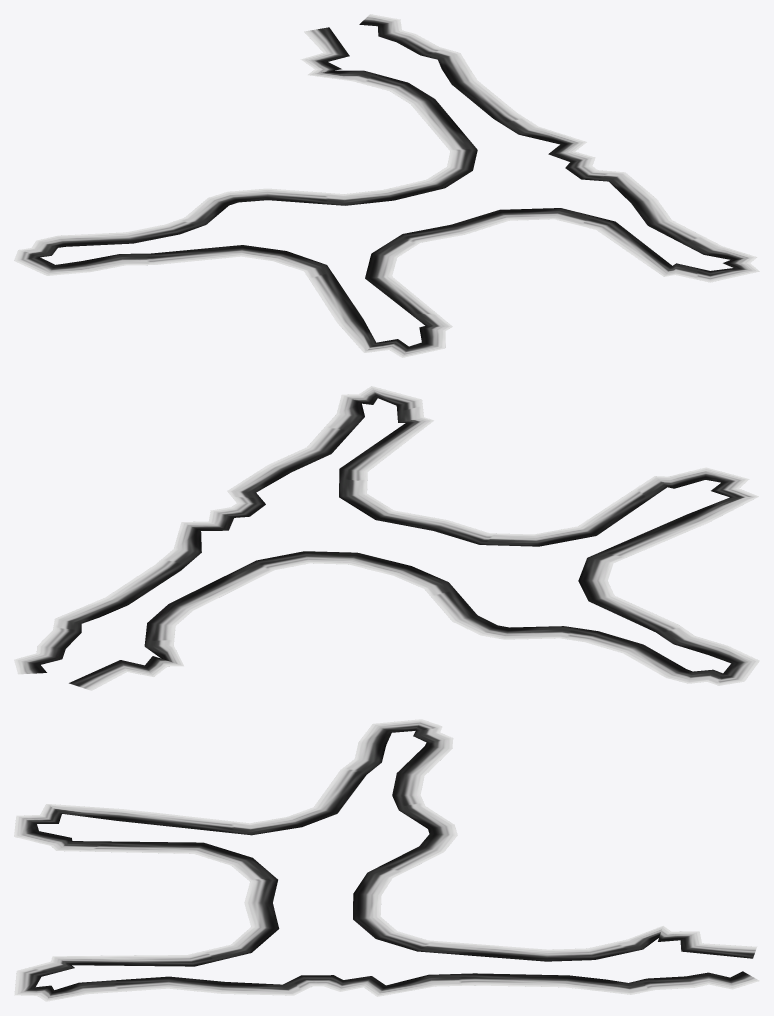
Rendered from WATERRIM.fbx.
The picture shows the model from 3 angles, top to bottom: view 1: azimuth 30°, elevation 25°; view 2: azimuth 150°, elevation 25°; view 3: azimuth 270°, elevation 25°; orthographic projection. The views are drawn at different scales.
Visible parts, largest first — view 1: MeshBaker_mesh_mesh; view 2: MeshBaker_mesh_mesh; view 3: MeshBaker_mesh_mesh.
Boxes of the visible parts, x1,y1,x2,y2 form: MeshBaker_mesh_mesh: (14,14,759,357); MeshBaker_mesh_mesh: (14,386,759,690); MeshBaker_mesh_mesh: (14,719,759,1001).
Bounding box in the file's own units: 7033 × 0 × 7846.
1 material, 1 textured.
